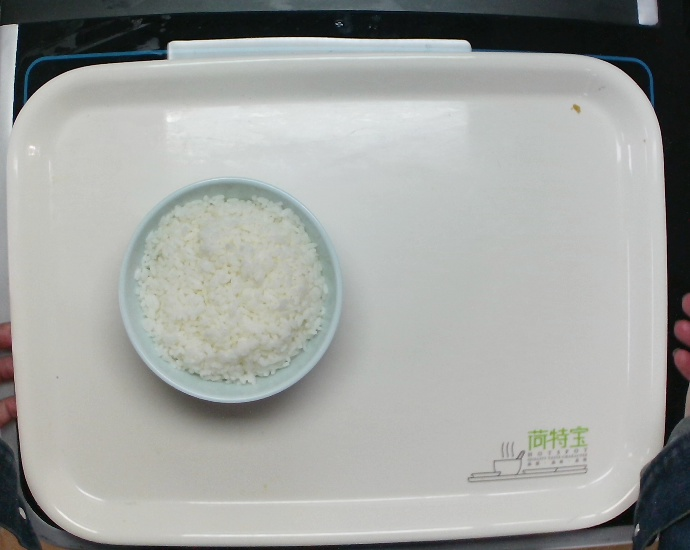JYsf-Fan_Wan: (116, 174, 344, 405)
